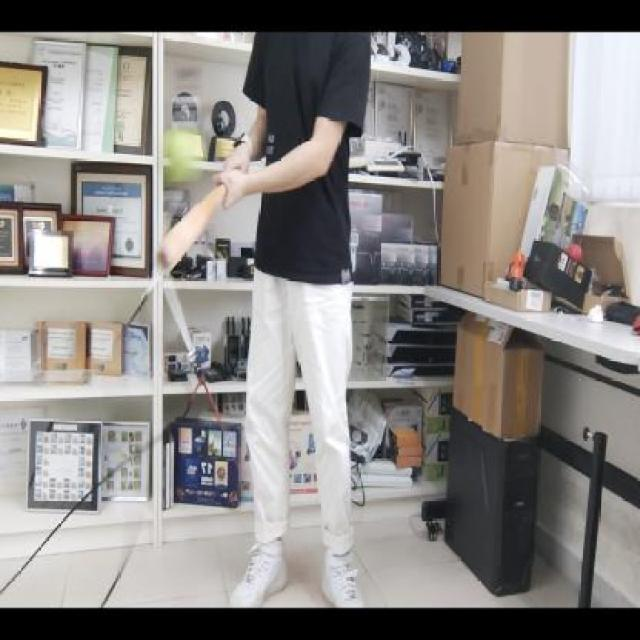baseball: (163, 129, 203, 186)
